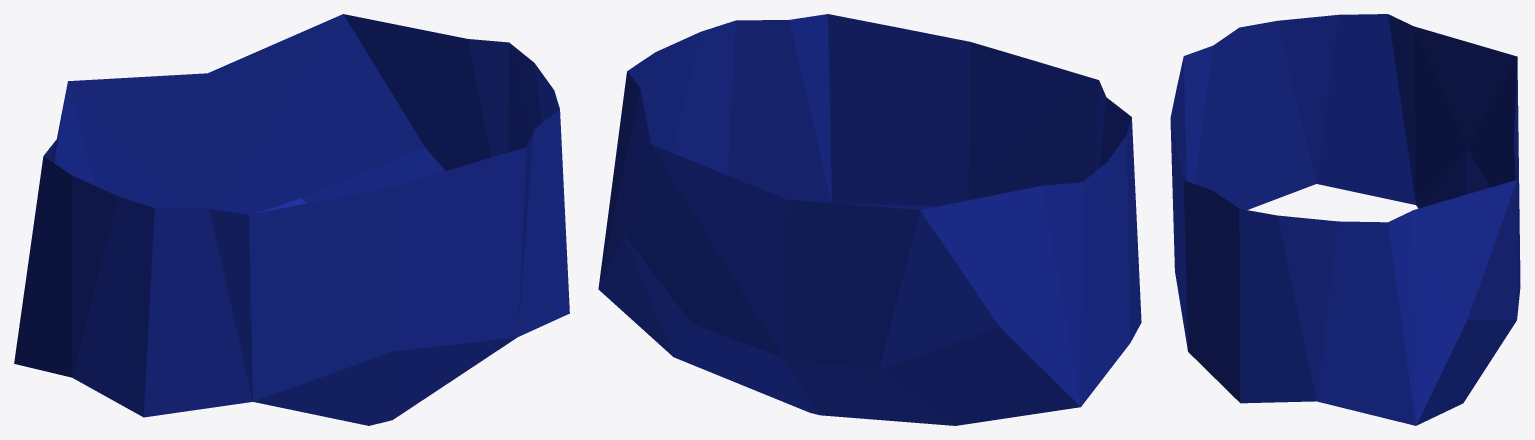
Rendered from TestWaist.obj.
3 views of the same model, side by side, from view 1: azimuth 30°, elevation 25°; view 2: azimuth 150°, elevation 25°; view 3: azimuth 270°, elevation 25° (orthographic). The views are drawn at different scales.
Visible parts, largest first — view 1: TestWaistArmor_Cube.013; view 2: TestWaistArmor_Cube.013; view 3: TestWaistArmor_Cube.013.
Part boxes in pixels (x1,y1,x2,y2): TestWaistArmor_Cube.013: (14,14,569,425); TestWaistArmor_Cube.013: (598,14,1141,425); TestWaistArmor_Cube.013: (1170,14,1520,425).
Bounding box in the file's own units: 0.3456 × 0.1792 × 0.2315.
